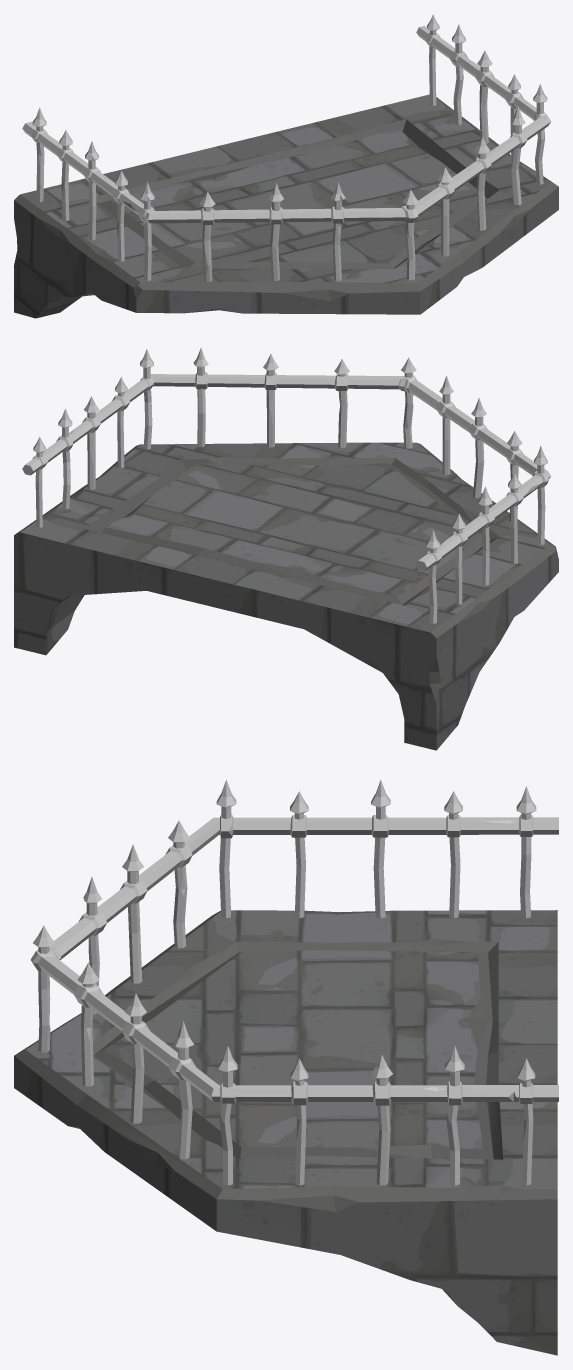
Rendered from SM_Bld_Balcony_03.fbx.
The picture shows the model from 3 angles, top to bottom: view 1: azimuth 30°, elevation 25°; view 2: azimuth 150°, elevation 25°; view 3: azimuth 270°, elevation 25°; orthographic projection. The views are drawn at different scales.
Visible parts, largest first — view 1: SM_Bld_Balcony_03; view 2: SM_Bld_Balcony_03; view 3: SM_Bld_Balcony_03.
Boxes of the visible parts, bbox=[...] form: SM_Bld_Balcony_03: bbox=[14, 14, 558, 318]; SM_Bld_Balcony_03: bbox=[14, 347, 558, 750]; SM_Bld_Balcony_03: bbox=[14, 779, 558, 1355].
Bounding box in the file's own units: 500 × 244 × 401.
